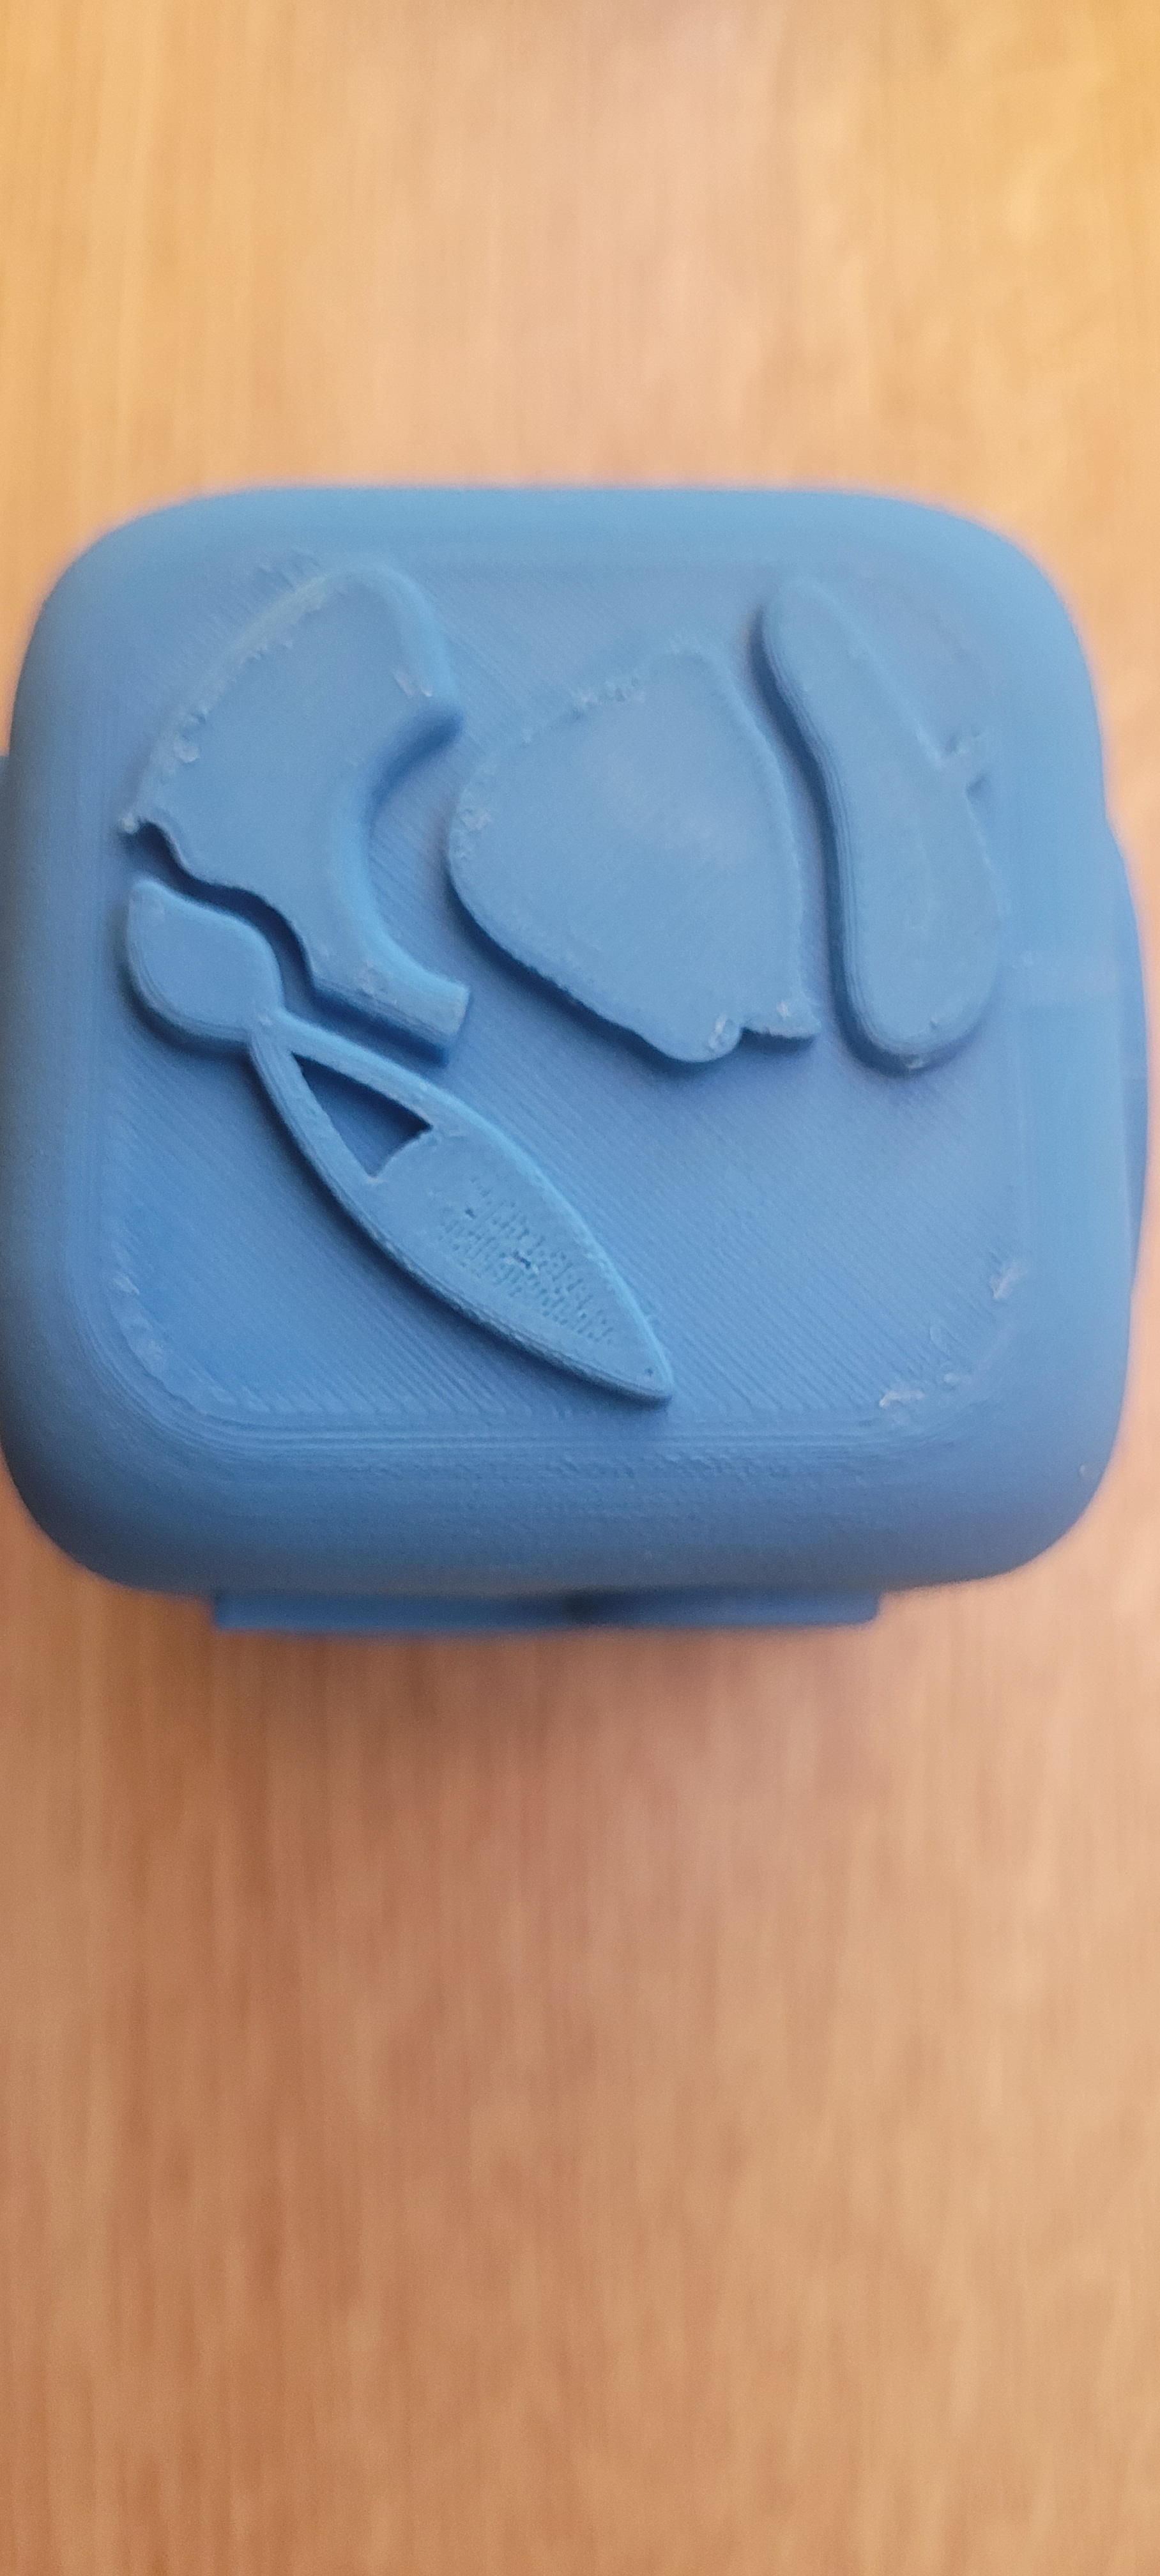Artist_Info: (15, 417, 1056, 1533)
